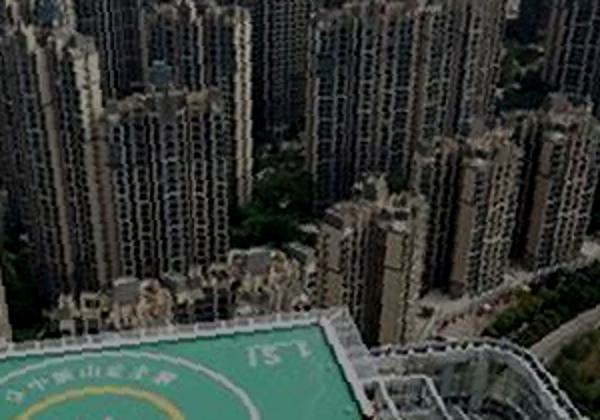Apron: (1, 366, 192, 420)
